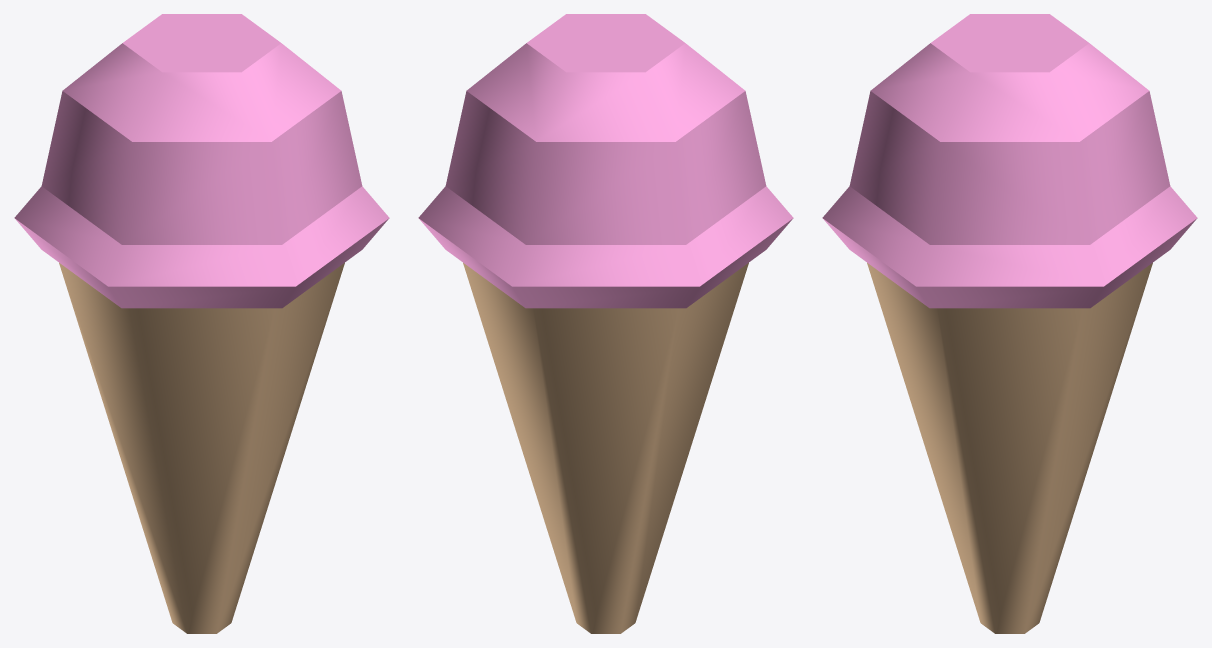
Rendered from iceCream.GLB.
The picture shows the model from 3 angles, left to right: view 1: azimuth 30°, elevation 25°; view 2: azimuth 150°, elevation 25°; view 3: azimuth 270°, elevation 25°; orthographic projection.
Parts seen in each view (by area): view 1: iceCream; view 2: iceCream; view 3: iceCream.
Boxes of the visible parts, <box> form: iceCream: <box>14,14,389,633</box>; iceCream: <box>418,14,793,633</box>; iceCream: <box>822,14,1197,633</box>.
Size of the model in its own units: 0.2352 by 0.4632 by 0.2716.
